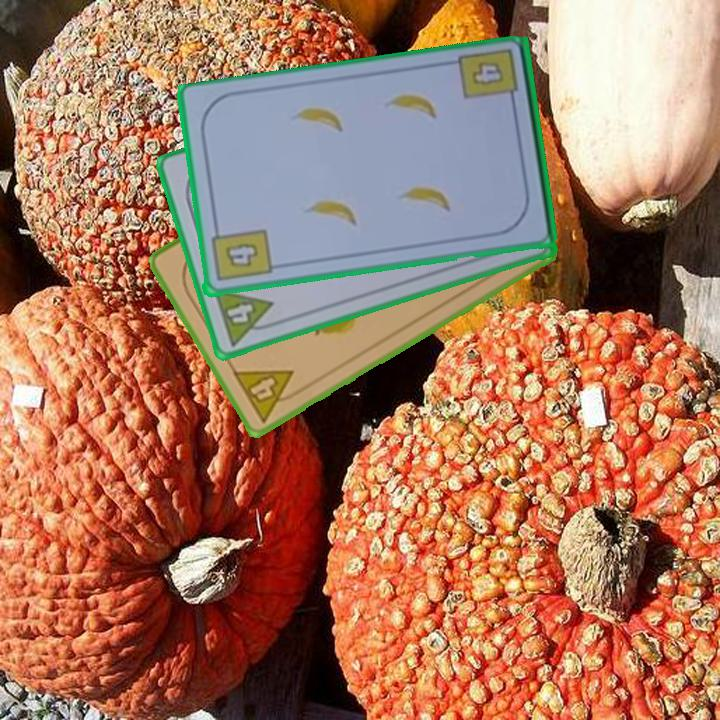4b: (207, 222, 274, 285), (467, 58, 507, 90)
4p: (210, 285, 282, 349), (229, 366, 307, 425)
